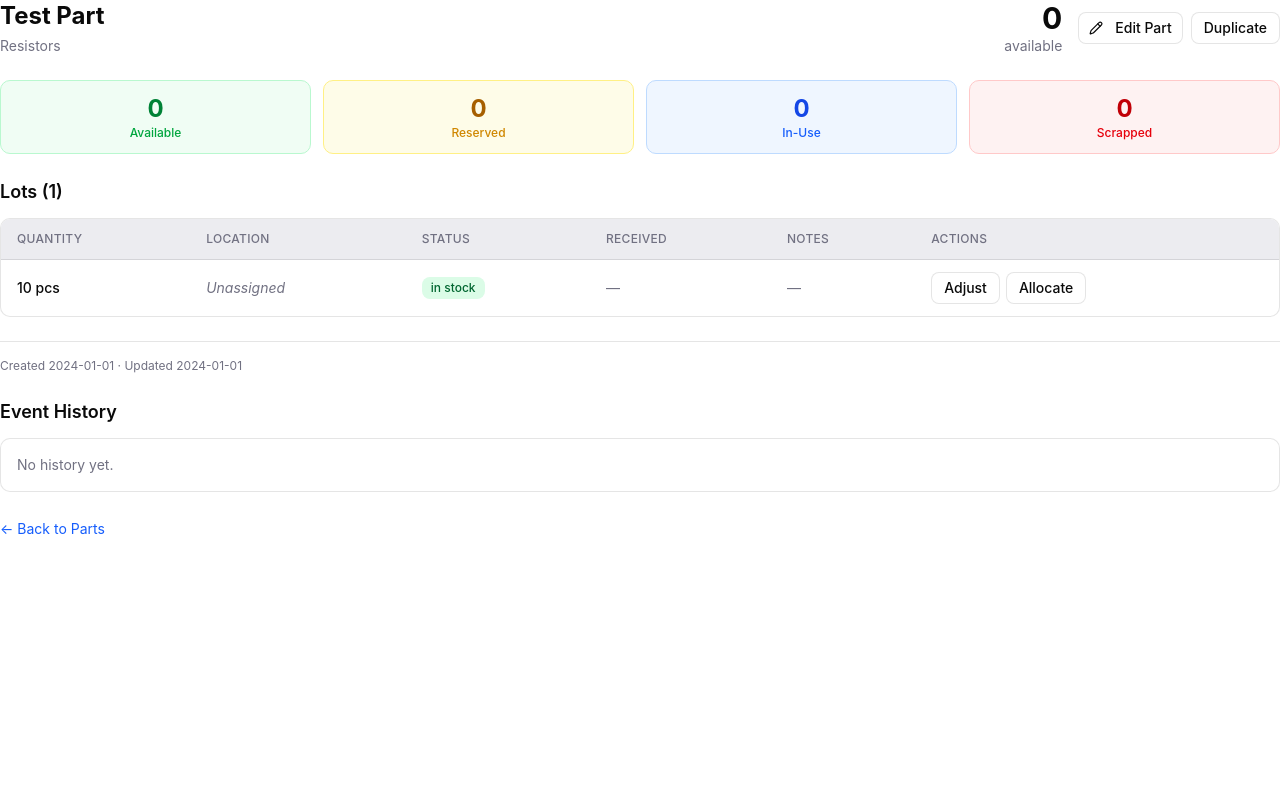
PartDetailClient — AdjustLotDialog behavior › shows a validation error when no change is entered
Step 1. Click the button "Adjust" → x=966, y=288, box [931,272,1000,304]
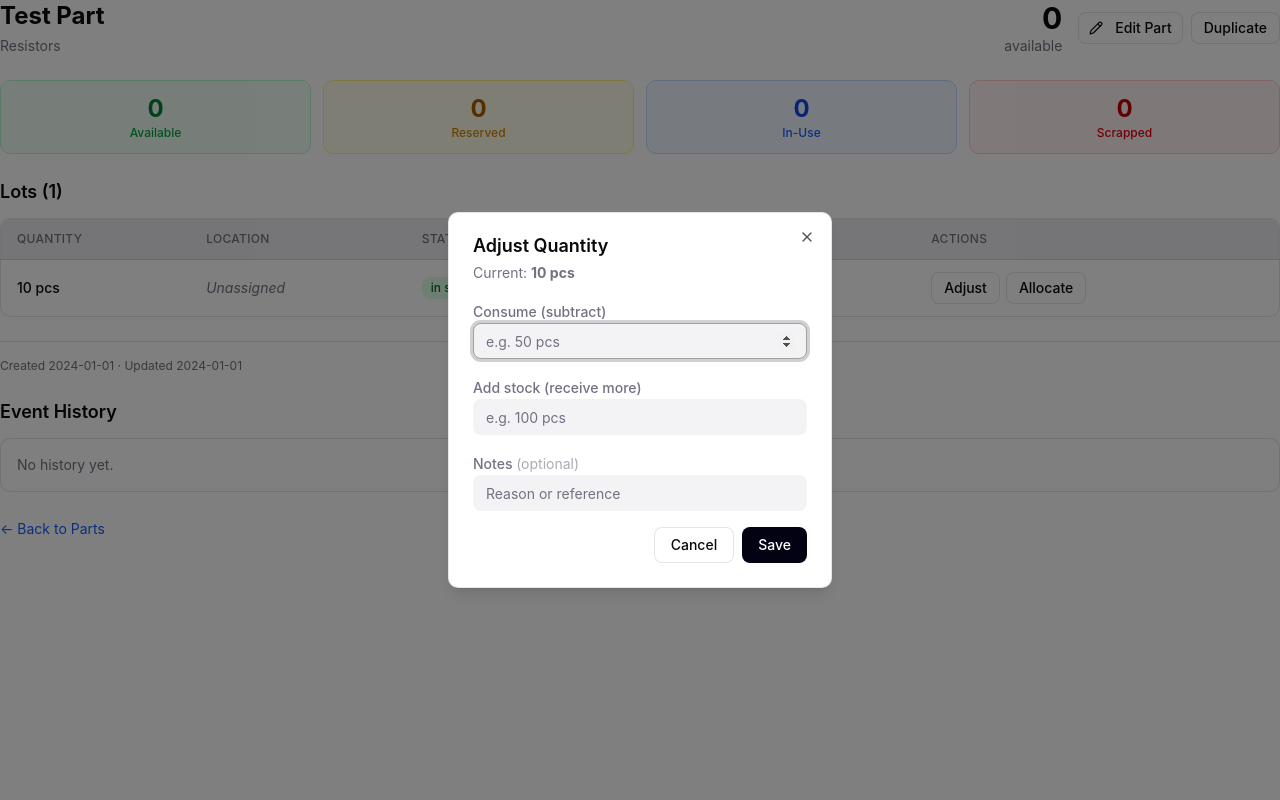
Expected: the dialog is shown, [448,212,832,588]
Step 2. Submit the form "Save", box [473,299,807,563]
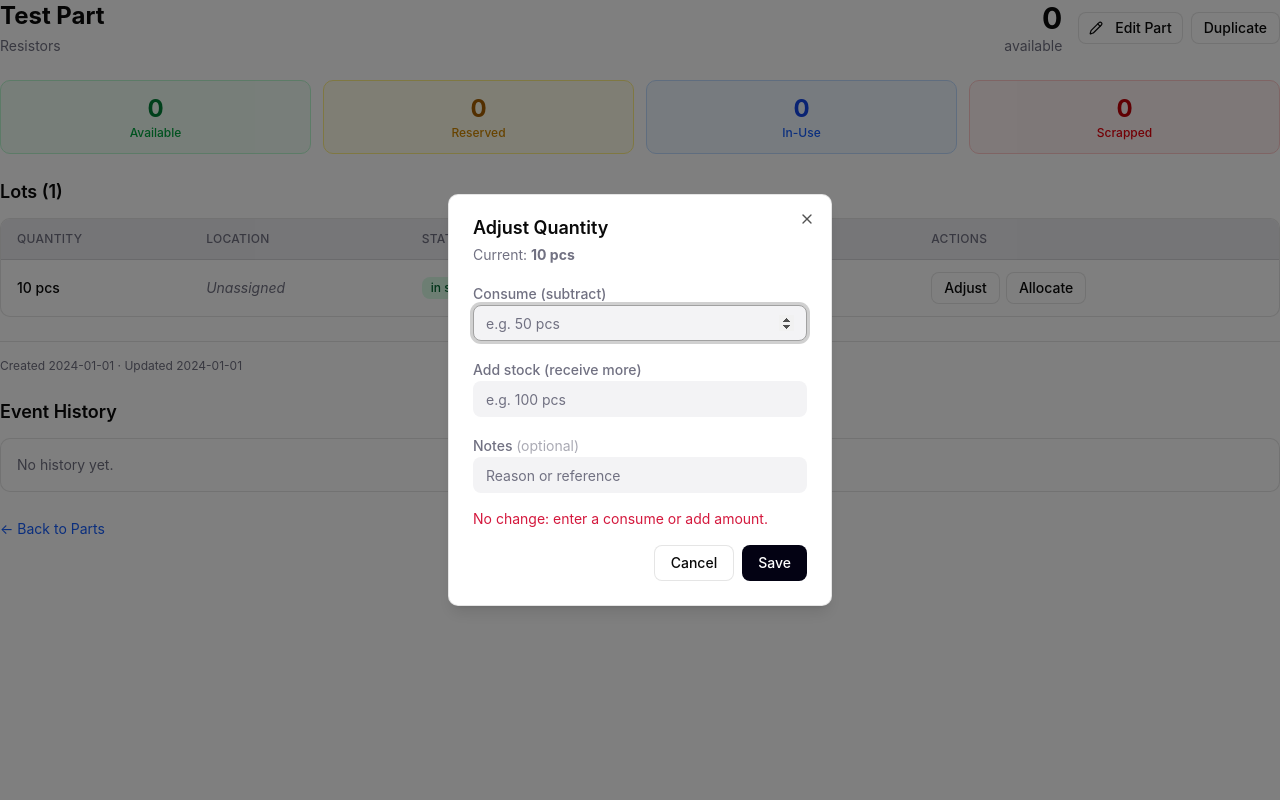
Expected: the text "No change: enter a consume or add amount." is shown, [473,509,807,529]
